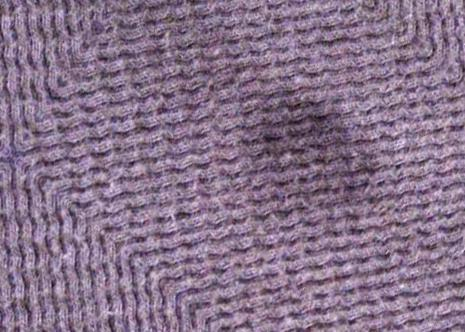stain: (247, 86, 376, 207)
